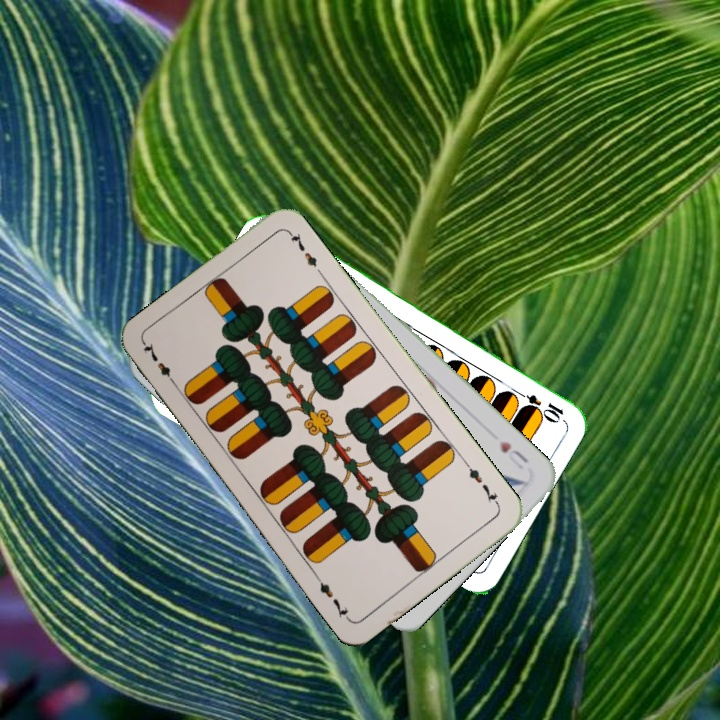E10: (510, 386, 566, 423)
E7: (139, 338, 181, 390), (461, 458, 502, 509)
HU: (495, 436, 531, 472)
